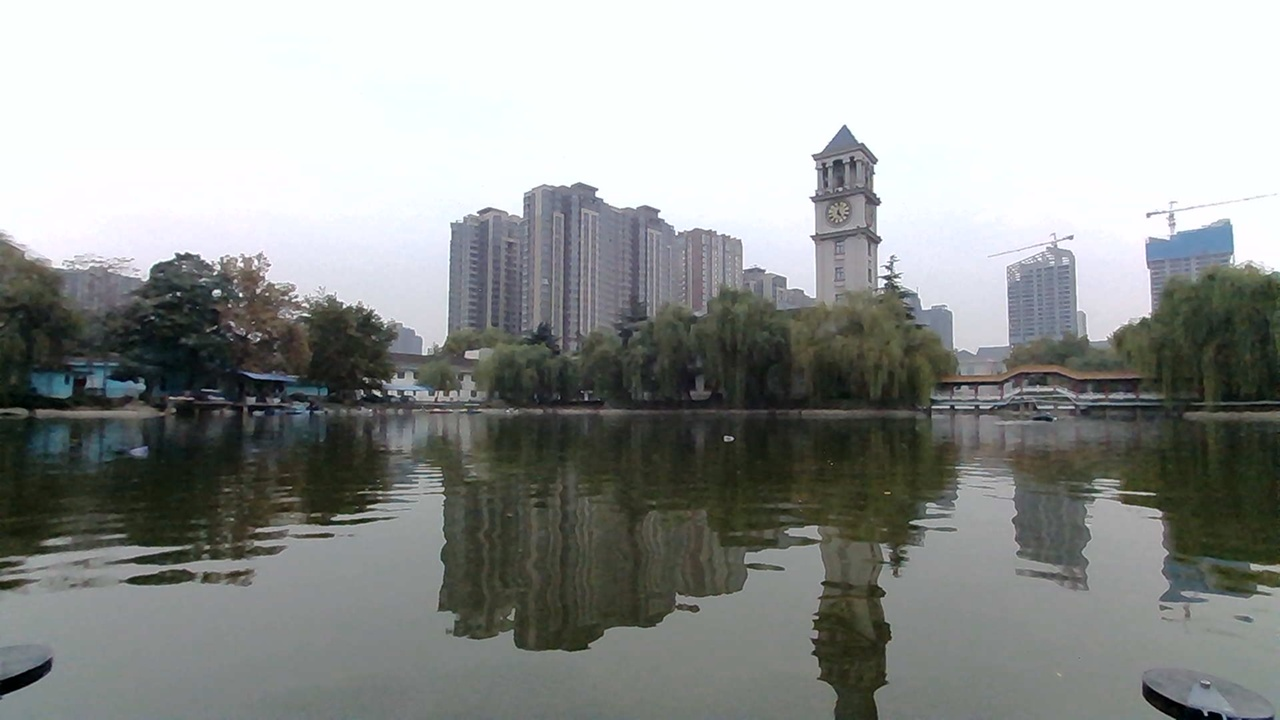bottle: (119, 433, 168, 470), (706, 422, 749, 451)
